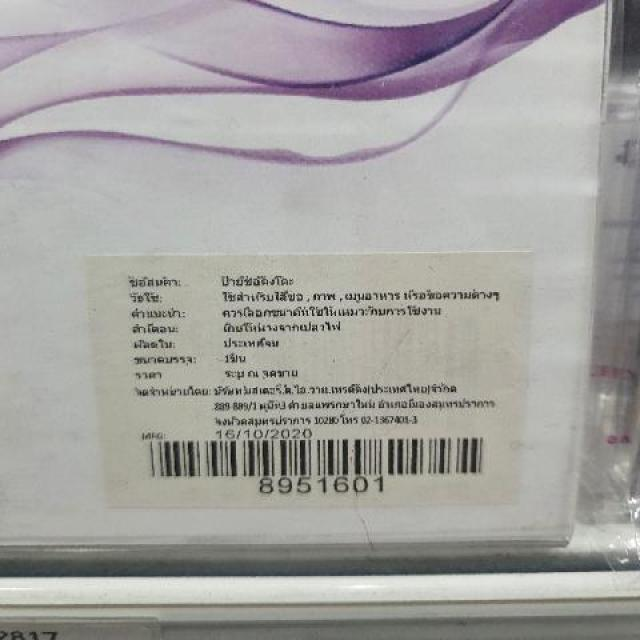Barcode: (136, 430, 497, 495)
